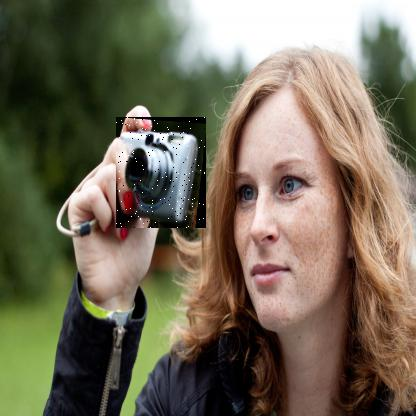Camera: (117, 118, 208, 230)
